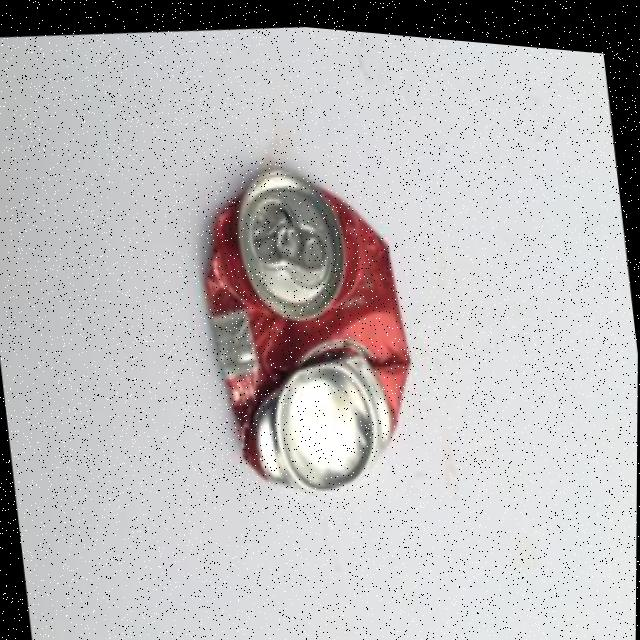metal: (184, 135, 436, 509)
